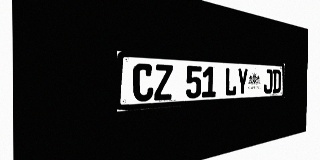1: (202, 66, 216, 98)
5: (186, 66, 202, 99)
C: (133, 63, 154, 102)
D: (272, 69, 281, 93)
J: (264, 69, 273, 94)
L: (225, 67, 237, 96)
Y: (237, 68, 248, 95)
Z: (154, 64, 173, 101)
